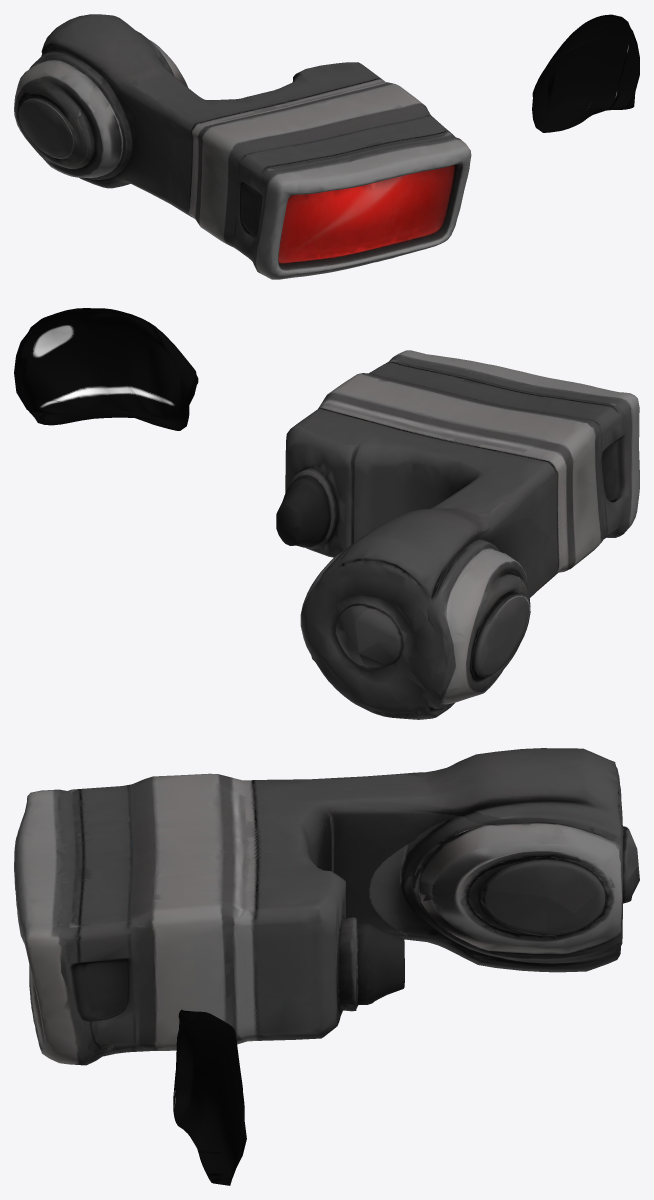
The model's file is Scanner Red.glb.
3 renders of one model, top to bottom at view 1: azimuth 30°, elevation 25°; view 2: azimuth 150°, elevation 25°; view 3: azimuth 270°, elevation 25°, orthographic. The views are drawn at different scales.
Visible parts, largest first — view 1: Mesh_0.003; view 2: Mesh_0.003; view 3: Mesh_0.003.
Boxes of the visible parts, x1,y1,x2,y2 form: Mesh_0.003: [14, 14, 639, 279]; Mesh_0.003: [14, 308, 639, 719]; Mesh_0.003: [14, 748, 639, 1185].
Bounding box in the file's own units: 0.5168 × 0.1423 × 0.3922.
2 materials, 2 textured.
